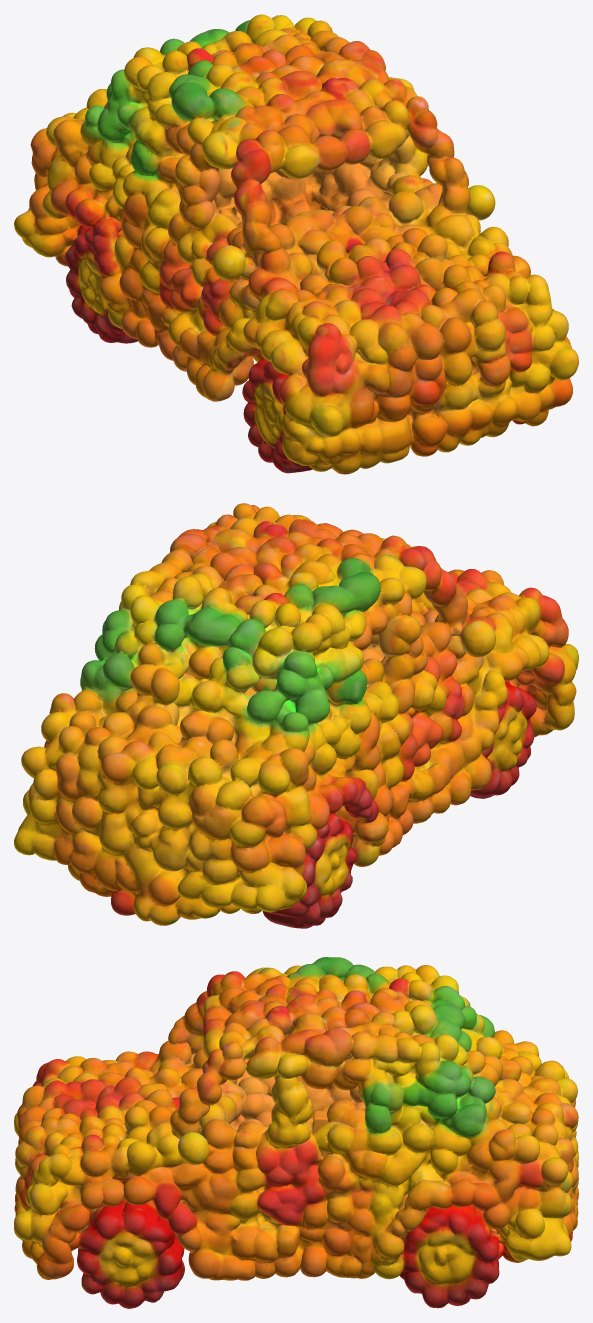
Rendered from candy-cruiser.glb.
The picture shows the model from 3 angles, top to bottom: view 1: azimuth 30°, elevation 25°; view 2: azimuth 150°, elevation 25°; view 3: azimuth 270°, elevation 25°; orthographic projection. The views are drawn at different scales.
Size of the model in its own units: 1.07 by 1.06 by 2.01.
1 material, 1 textured.
